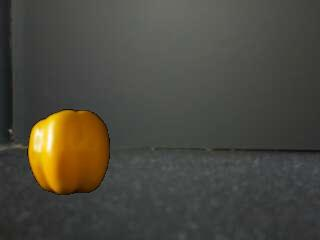Capsicum: (27, 108, 110, 195)
